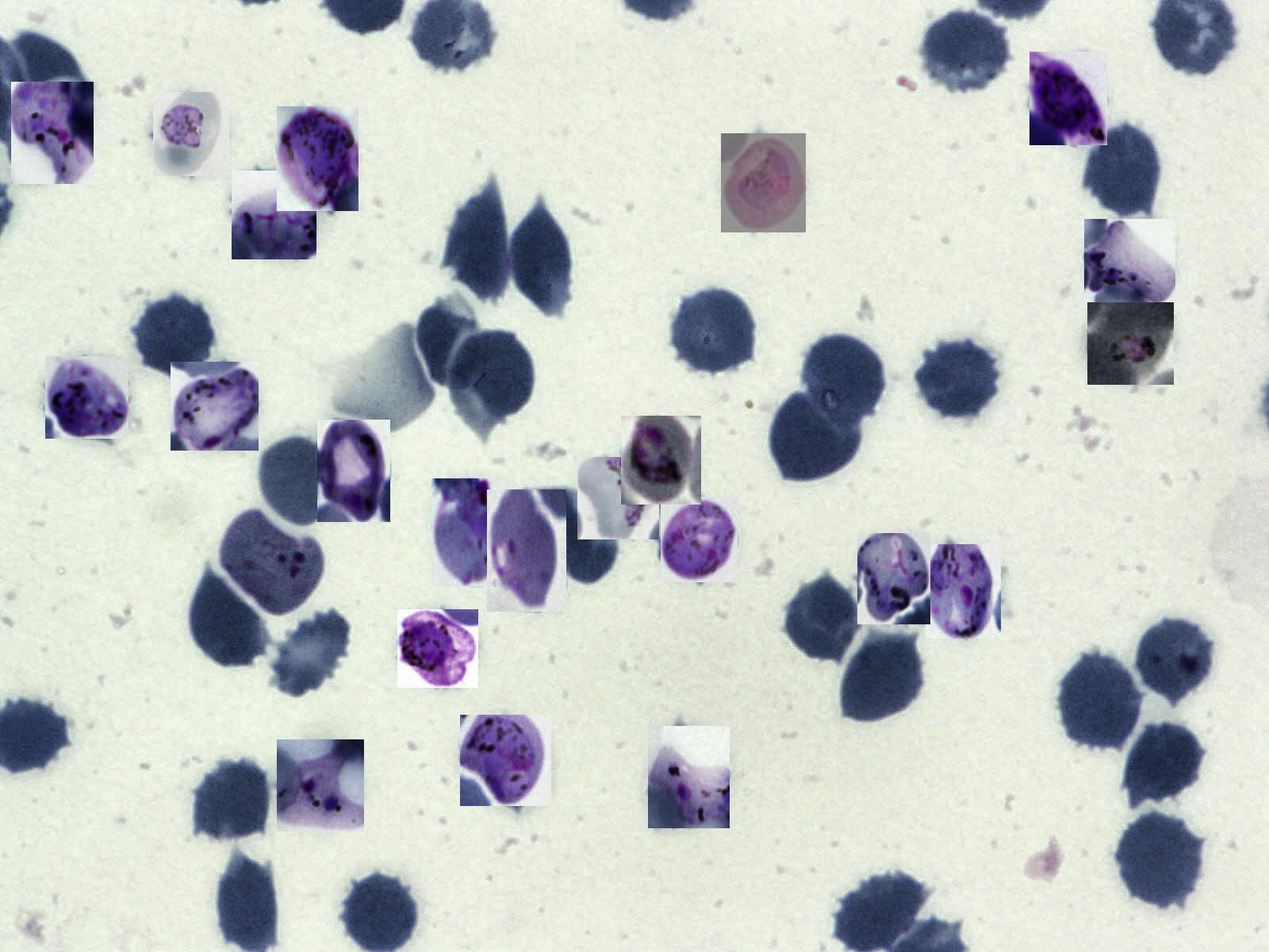Infected: (220, 505, 322, 616), (487, 489, 566, 612), (278, 106, 359, 211), (11, 82, 94, 184), (721, 133, 806, 232), (648, 726, 730, 828), (460, 715, 551, 806), (431, 478, 507, 586), (277, 739, 364, 831), (171, 362, 259, 451), (1084, 219, 1175, 304), (317, 420, 390, 522), (232, 171, 316, 259), (1029, 52, 1107, 145), (1087, 302, 1174, 385), (926, 544, 1001, 639), (621, 416, 701, 505), (45, 356, 128, 439), (577, 457, 659, 539), (857, 533, 930, 624), (661, 497, 738, 582), (397, 609, 478, 688), (153, 92, 229, 176)
Uninfected: (531, 486, 619, 586), (769, 390, 864, 481), (186, 566, 269, 669), (1115, 812, 1205, 906), (449, 328, 537, 423), (1059, 651, 1142, 750), (668, 286, 758, 374), (801, 333, 888, 424), (1082, 122, 1161, 221), (255, 432, 335, 529), (922, 9, 1012, 94), (1133, 616, 1216, 707), (1118, 721, 1206, 806), (842, 630, 926, 719), (509, 200, 572, 318), (270, 608, 351, 696), (447, 188, 509, 302), (783, 576, 864, 663), (190, 757, 270, 842), (417, 299, 487, 393), (916, 339, 1000, 416), (134, 294, 213, 375)
